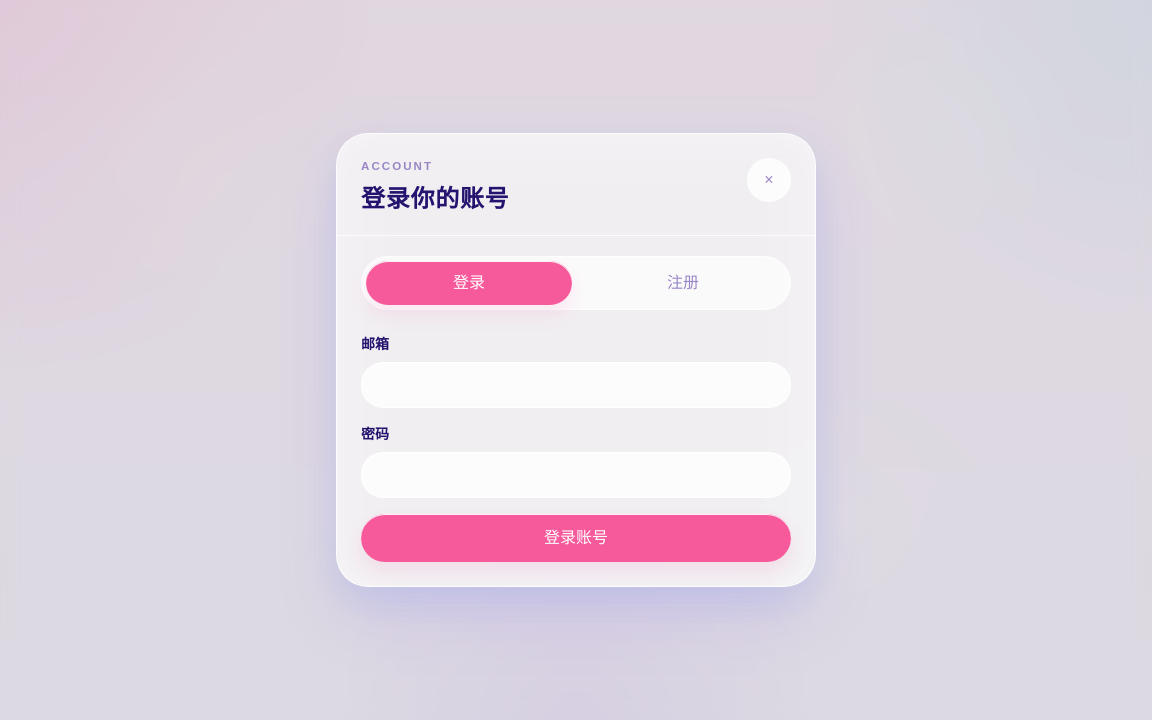
Test: AuthDialog › switches tabs without page navigation and shows only 用户名 + 邮箱 + 密码 in 注册
The image size is (1152, 720).
Click the tab "注册" at x=683, y=283, box top-left (580, 261), bottom-right (786, 305)
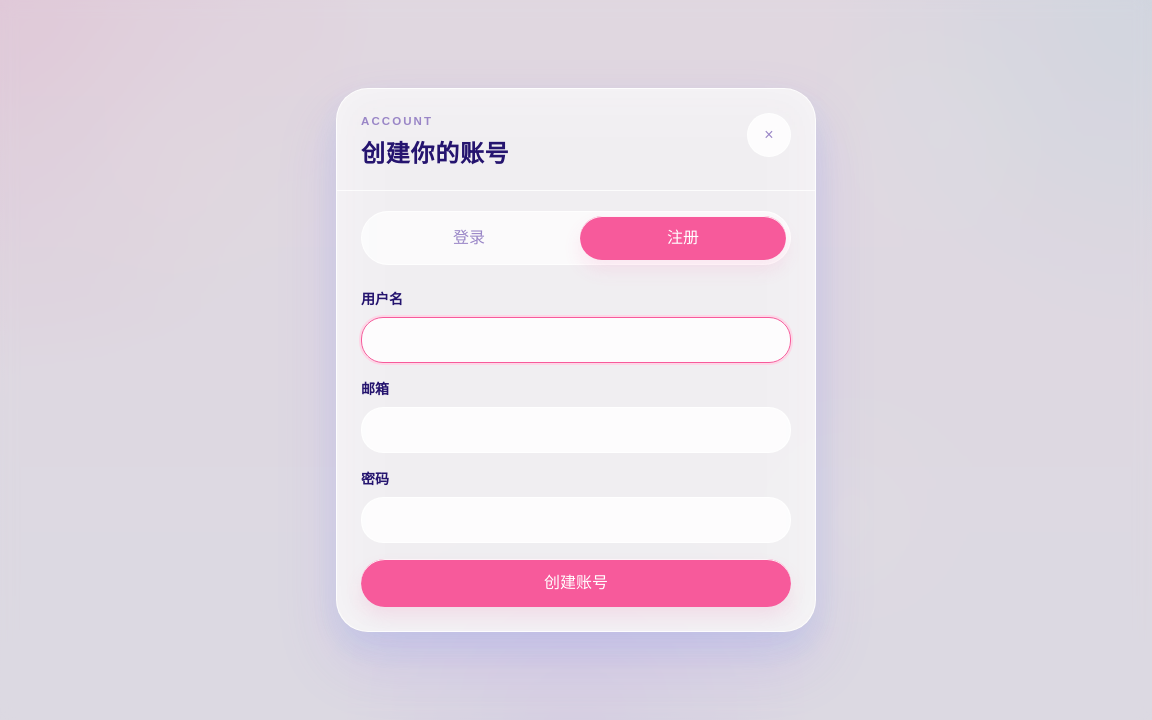
Expected: the text "邮箱" is shown, top-left (361, 381), bottom-right (389, 397)
Now the text "用户名" is shown, box top-left (361, 291), bottom-right (403, 307)
Now the field named "username" is shown, box top-left (361, 317), bottom-right (791, 363)
